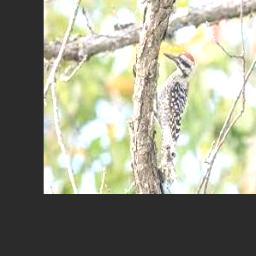Woodpecker: (154, 52, 195, 194)
